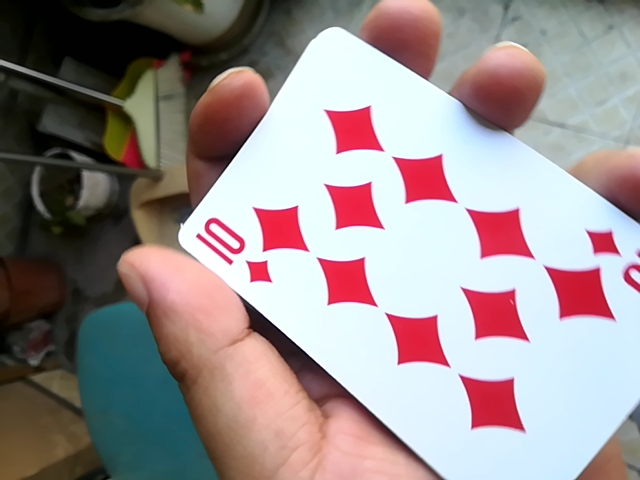fk 10: (159, 27, 638, 480)
